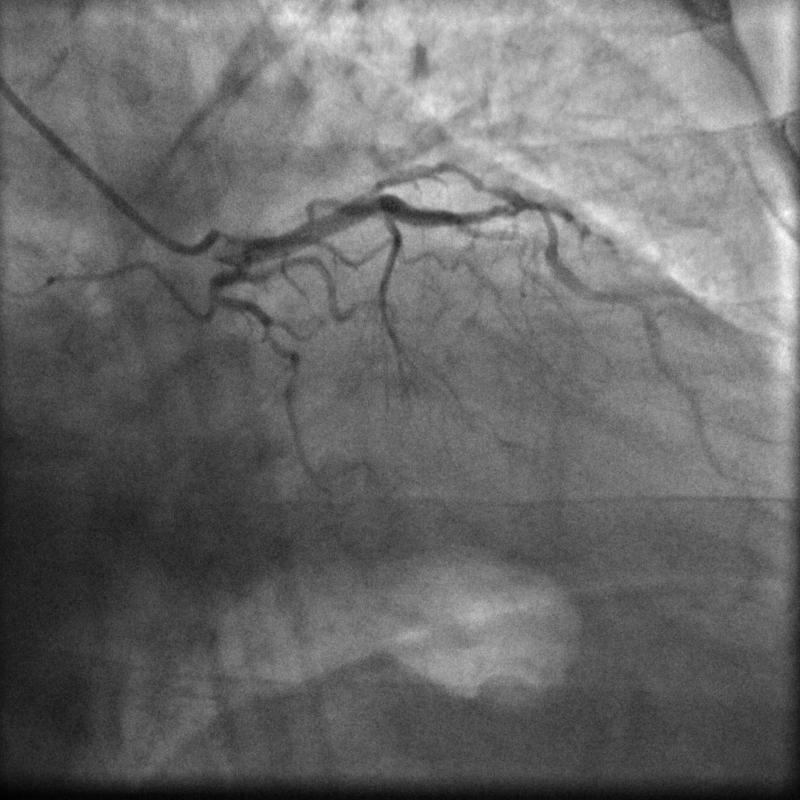Stenosis: (483, 201, 560, 236)
